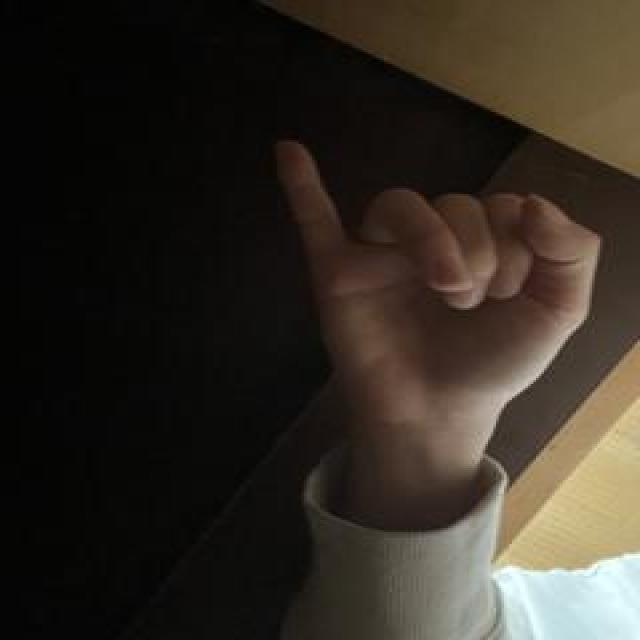I: (229, 36, 640, 496)
